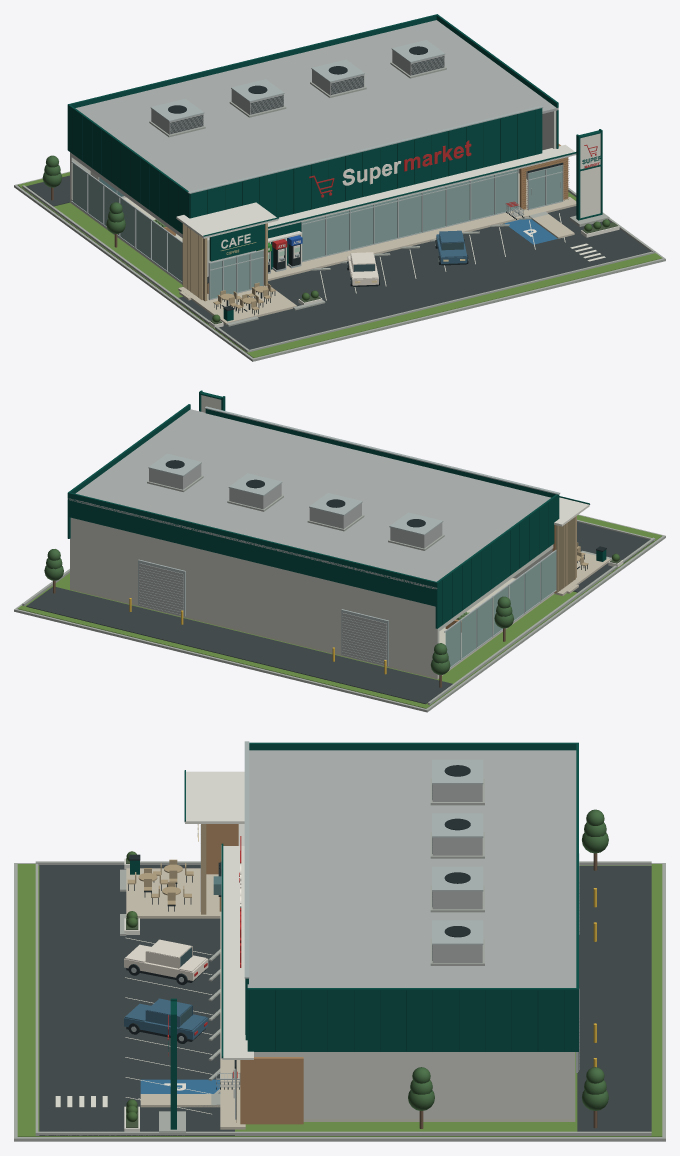
The model's file is supermercado-verde.glb.
3 views of the same model, one above another, from view 1: azimuth 30°, elevation 25°; view 2: azimuth 150°, elevation 25°; view 3: azimuth 270°, elevation 25° (orthographic). The views are drawn at different scales.
Parts seen in each view (by area): view 1: super-roof-roof-deck, super-asphalt-front-drive, super-green-front-green-fascia, super-green-west-green-fascia, super-lawn-ground-green, super-concrete-lot-base, super-paving-front-sidewalk, super-white-front-canopy, super-green-back-green-fascia, super-white-cafe-canopy, super-white-pylon-white-panel, super-paving-cafe-floor (+34 smaller); view 2: super-roof-roof-deck, super-plaster-back-wall, super-asphalt-rear-service-yard, super-green-back-green-fascia, super-green-west-green-fascia, super-lawn-ground-green, super-concrete-lot-base, super-roof-loading-shutter-a, super-roof-loading-shutter-b, super-asphalt-front-drive, super-green-front-green-fascia, super-floor-sales-floor (+20 smaller); view 3: super-roof-roof-deck, super-asphalt-front-drive, super-green-east-green-fascia, super-asphalt-rear-service-yard, super-plaster-east-wall, super-lawn-ground-green, super-concrete-lot-base, super-white-front-canopy, super-cedar-entrance-wood-return, super-paving-cafe-floor, super-white-cafe-canopy, super-concrete-curb-side-17570 (+22 smaller).
Part boxes in pixels (<box>): super-roof-roof-deck: <box>75,20,558,191</box>; super-asphalt-front-drive: <box>175,206,650,351</box>; super-green-front-green-fascia: <box>189,108,542,218</box>; super-green-west-green-fascia: <box>67,104,188,233</box>; super-lawn-ground-green: <box>17,172,662,357</box>; super-concrete-lot-base: <box>14,171,665,361</box>; super-paving-front-sidewalk: <box>179,197,576,300</box>; super-white-front-canopy: <box>268,144,576,230</box>; super-green-back-green-fascia: <box>70,14,436,107</box>; super-white-cafe-canopy: <box>176,202,278,238</box>; super-white-pylon-white-panel: <box>580,133,600,218</box>; super-paving-cafe-floor: <box>178,285,296,324</box>; super-roof-roof-deck: <box>67,409,550,589</box>; super-plaster-back-wall: <box>70,517,439,677</box>; super-asphalt-rear-service-yard: <box>26,587,452,704</box>; super-green-back-green-fascia: <box>69,492,437,606</box>; super-green-west-green-fascia: <box>435,494,558,628</box>; super-lawn-ground-green: <box>17,515,661,708</box>; super-concrete-lot-base: <box>14,514,665,712</box>; super-roof-loading-shutter-a: <box>342,613,386,665</box>; super-roof-loading-shutter-b: <box>139,563,183,615</box>; super-asphalt-front-drive: <box>573,522,653,592</box>; super-green-front-green-fascia: <box>205,409,559,518</box>; super-floor-sales-floor: <box>70,579,554,679</box>; super-roof-roof-deck: <box>247,750,576,987</box>; super-asphalt-front-drive: <box>39,865,234,1135</box>; super-green-east-green-fascia: <box>247,988,578,1051</box>; super-asphalt-rear-service-yard: <box>577,866,651,1131</box>; super-plaster-east-wall: <box>254,1052,570,1118</box>; super-lawn-ground-green: <box>17,864,662,1136</box>; super-concrete-lot-base: <box>14,863,665,1141</box>; super-white-front-canopy: <box>222,846,253,1059</box>; super-cedar-entrance-wood-return: <box>240,1057,303,1124</box>; super-paving-cafe-floor: <box>126,868,221,918</box>; super-white-cafe-canopy: <box>185,771,244,823</box>; super-concrete-curb-side-17570: <box>35,1131,651,1135</box>.
Bounding box in the file's own units: 36 × 9.36 × 36.
